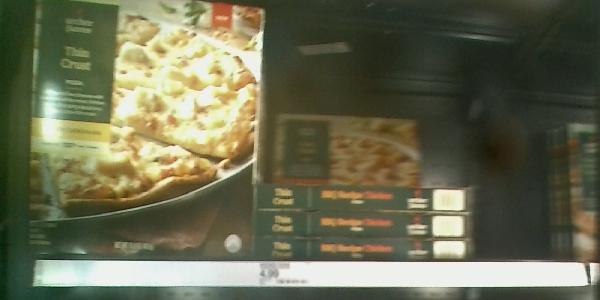pizza1: (27, 1, 261, 259)
pizza2: (258, 181, 475, 213), (261, 205, 478, 236), (262, 236, 478, 258)
